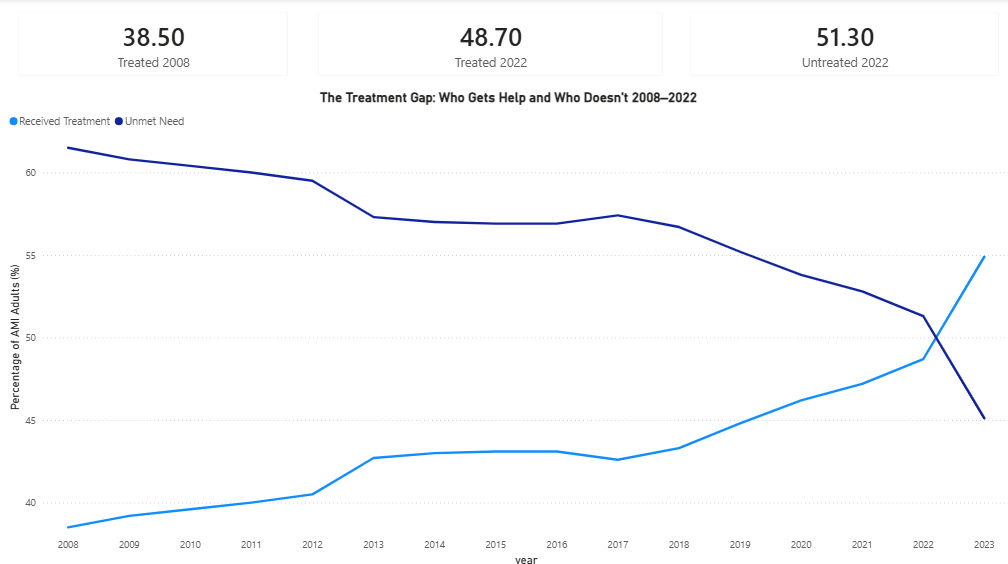

The page's visual inventory and layout, read from the dashboard file:
{"tool":"powerbi","page":{"name":"Treatment Gap","canvas":[1280,720],"ordinal":1},"visuals":[{"type":"lineChart","title":"The Treatment Gap: Who Gets Help and Who Doesn''t 2008–2022","fields":{"Category":["treatment_gap.year"],"Y":["Sum(treatment_gap.received_treatment_pct)","Sum(treatment_gap.unmet_need_pct)"]},"box":[9.4,115.3,1269.9,604.7],"z":0},{"type":"cardVisual","fields":{"Data":["treatment_gap.Treated 2008"]},"box":[9.4,0,374.2,115.3],"z":1000},{"type":"cardVisual","fields":{"Data":["treatment_gap.Treated 2022"]},"box":[387.4,0,468.7,115.3],"z":2000},{"type":"cardVisual","fields":{"Data":["treatment_gap.Untreated 2022"]},"box":[856.1,0,423.3,115.3],"z":3000}]}

Visuals, with their boxes in screenshot pixels (x1, y1, x2, y2), scaled from the page's 1280x720 canvas onto the 1008x564 screenshot:
"The Treatment Gap: Who Gets Help and Who Doesn''t 2008–2022" lineChart: 7, 90, 1007, 563
cardVisual - treatment_gap.Treated 2008: 7, 0, 302, 90
cardVisual - treatment_gap.Treated 2022: 305, 0, 674, 90
cardVisual - treatment_gap.Untreated 2022: 674, 0, 1007, 90
